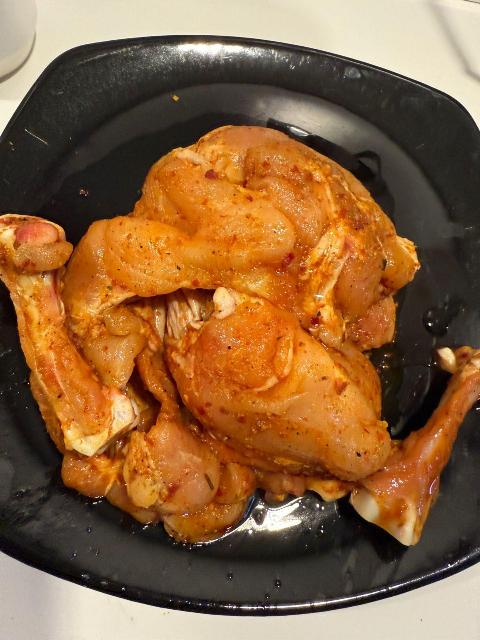Organik: (153, 160, 417, 333), (187, 337, 379, 477), (0, 231, 129, 429), (363, 360, 480, 535), (76, 337, 189, 509)
